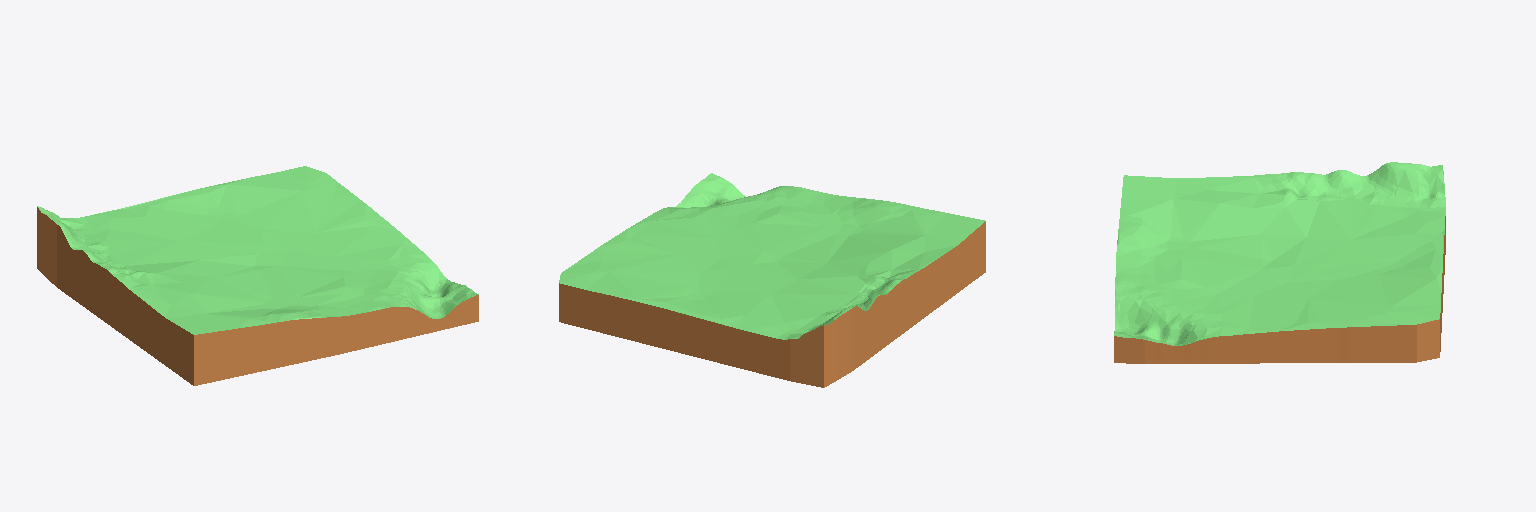
File: teren.obj
3 renders of one model, left to right at view 1: azimuth 30°, elevation 25°; view 2: azimuth 150°, elevation 25°; view 3: azimuth 270°, elevation 25°, orthographic.
Visible parts, largest first — view 1: Mesh2 Group1 Model, Mesh1 Group2 Group1 Model; view 2: Mesh2 Group1 Model, Mesh1 Group2 Group1 Model; view 3: Mesh2 Group1 Model, Mesh1 Group2 Group1 Model.
Part boxes in pixels (x1,y1,x2,y2): Mesh2 Group1 Model: (37, 166, 478, 334); Mesh1 Group2 Group1 Model: (37, 207, 478, 385); Mesh2 Group1 Model: (559, 173, 984, 339); Mesh1 Group2 Group1 Model: (559, 221, 985, 387); Mesh2 Group1 Model: (1114, 162, 1445, 345); Mesh1 Group2 Group1 Model: (1114, 216, 1445, 363).
Size of the model in its own units: 35.5 by 9.31 by 36.01.